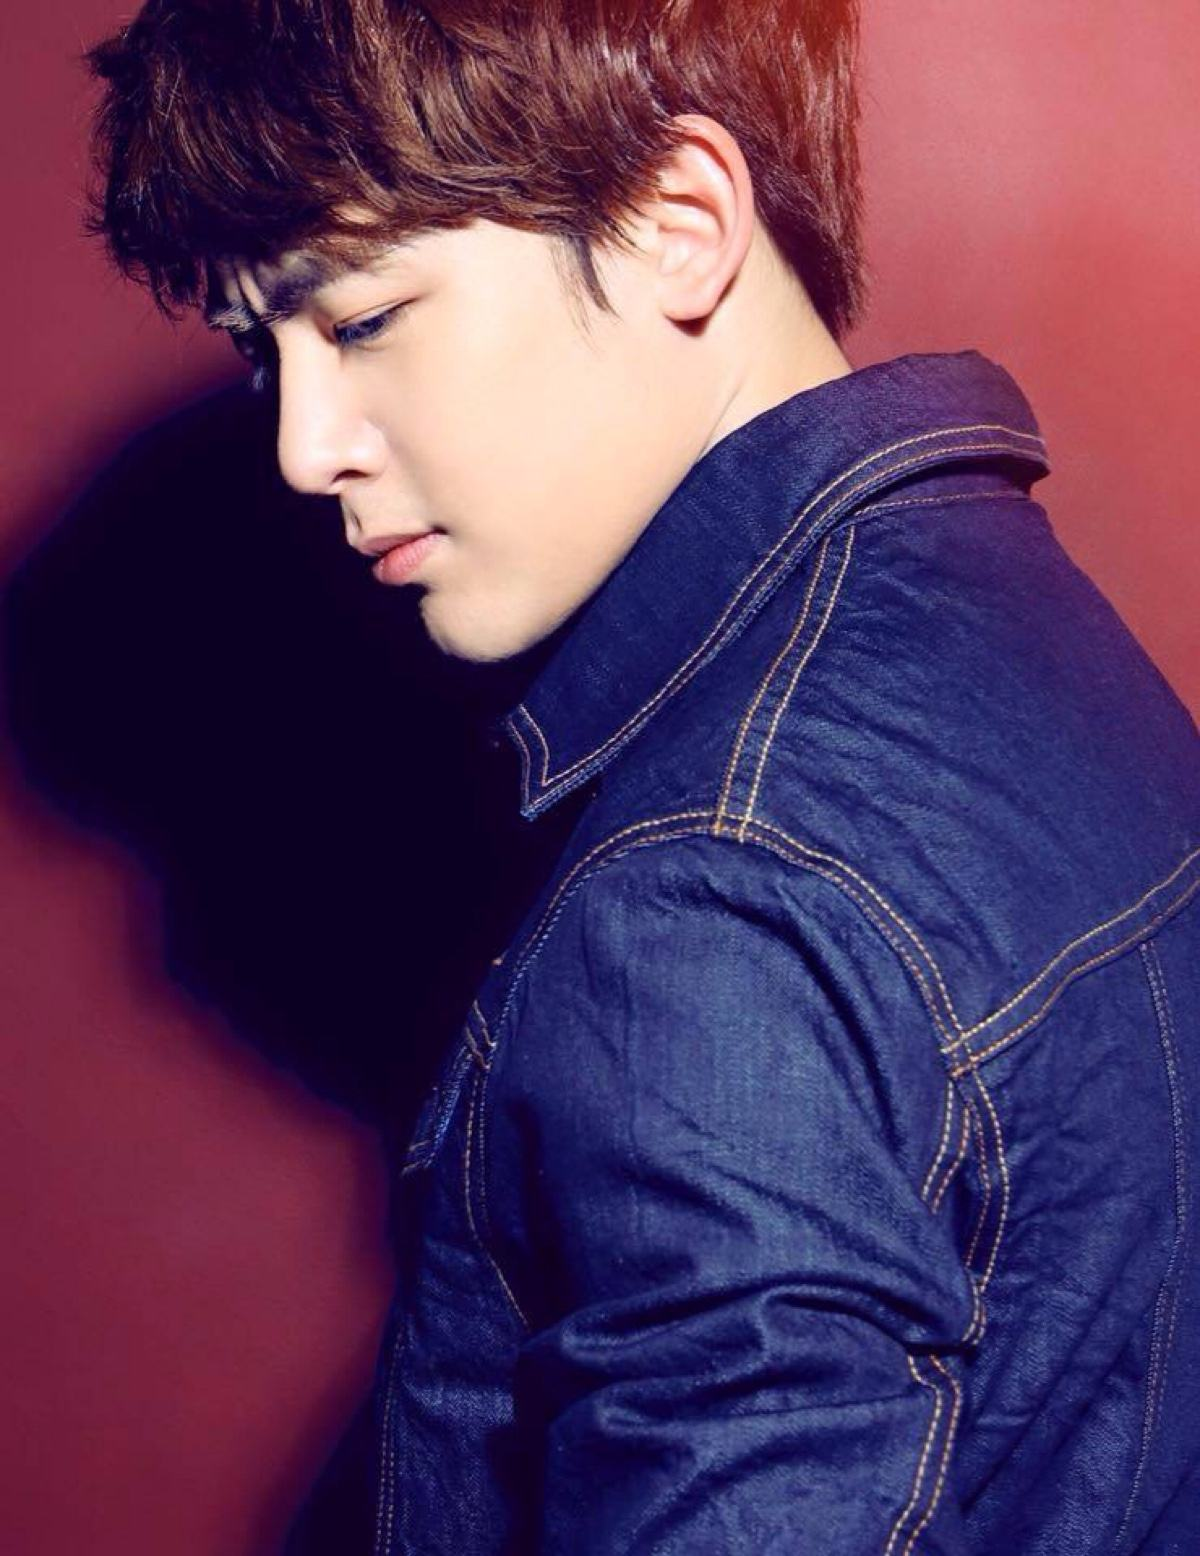person: (62, 54, 970, 1476)
